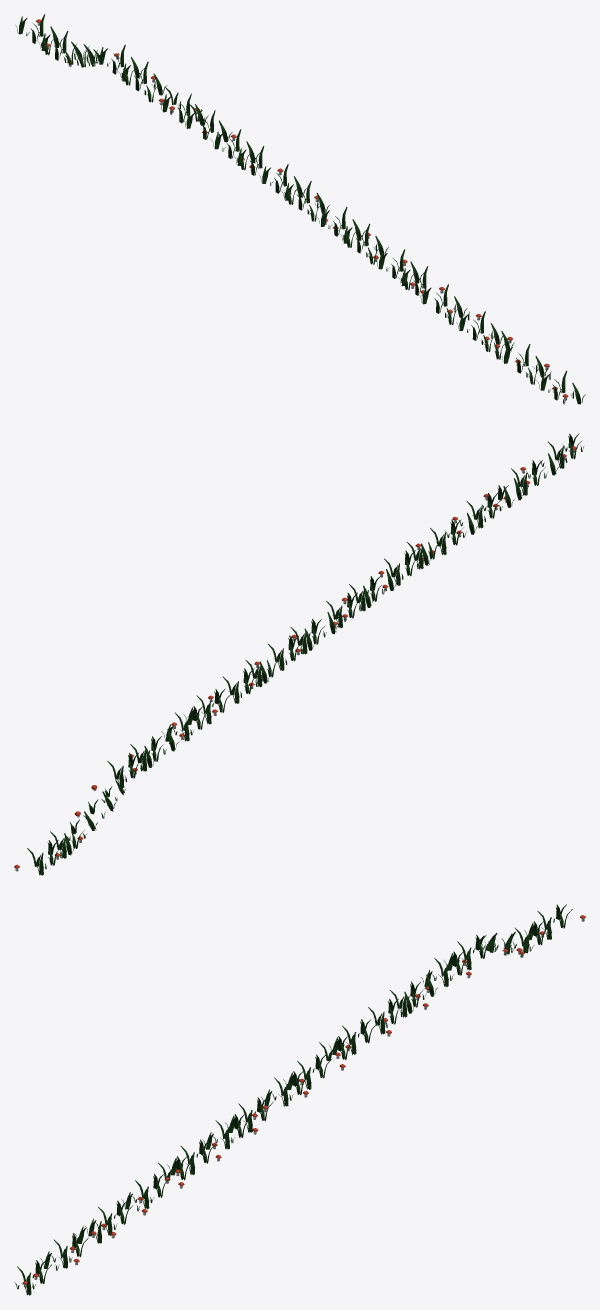
The model's file is pasto_4.fbx.
The picture shows the model from 3 angles, top to bottom: view 1: azimuth 30°, elevation 25°; view 2: azimuth 150°, elevation 25°; view 3: azimuth 330°, elevation 25°; orthographic projection.
Parts seen in each view (by area): view 1: hongos2.002; view 2: hongos2.002; view 3: hongos2.002.
Boxes of the visible parts, x1=… form: hongos2.002: x1=15, y1=14, x2=585, y2=404; hongos2.002: x1=14, y1=433, x2=583, y2=875; hongos2.002: x1=14, y1=904, x2=585, y2=1295.
Bounding box in the file's own units: 106 × 146 × 3040.
